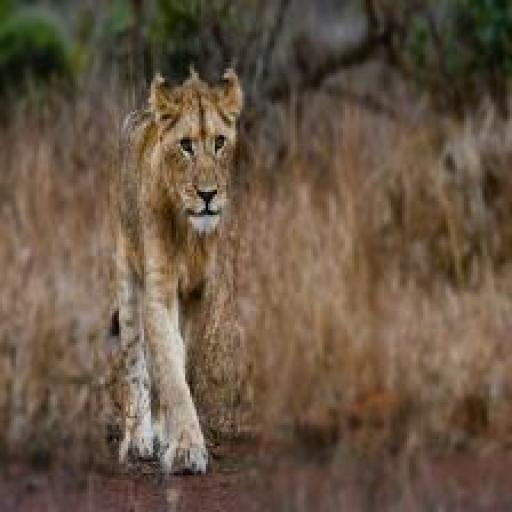lion: (105, 64, 256, 491)
